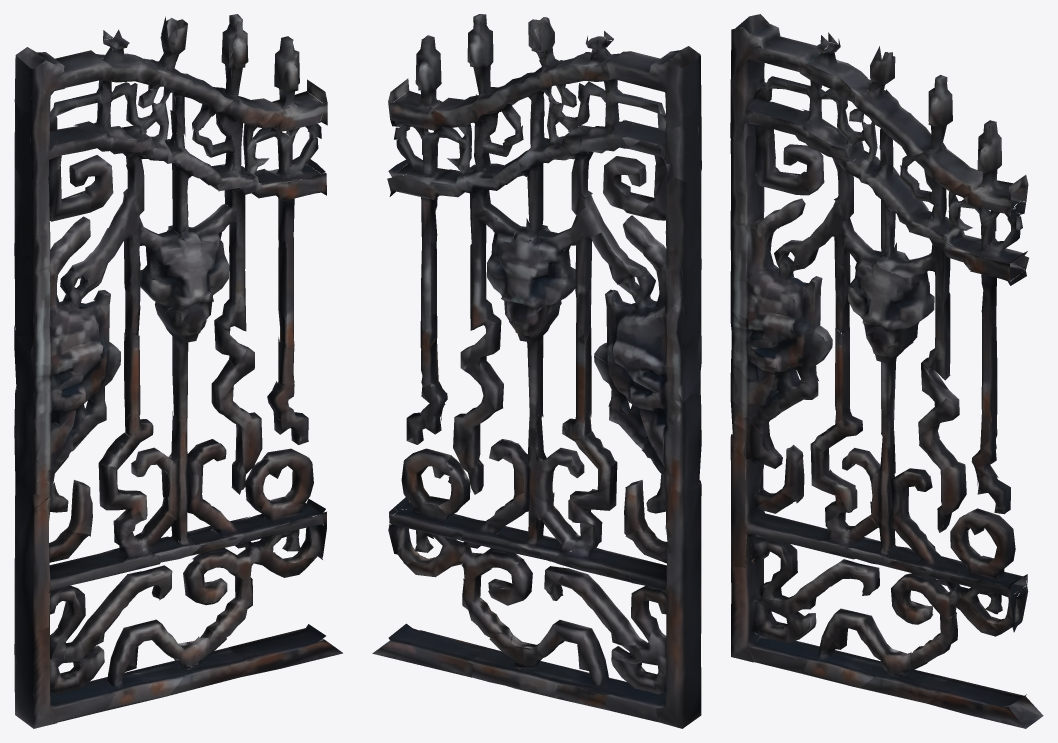
The model's file is gate_door_right.obj.
3 renders of one model, left to right at view 1: azimuth 30°, elevation 25°; view 2: azimuth 150°, elevation 25°; view 3: azimuth 330°, elevation 25°, orthographic. The views are drawn at different scales.
Visible parts, largest first — view 1: gate_door_right; view 2: gate_door_right; view 3: gate_door_right.
Boxes of the visible parts, x1,y1,x2,y2 form: gate_door_right: (14, 14, 342, 728); gate_door_right: (372, 14, 701, 728); gate_door_right: (730, 14, 1043, 728).
Size of the model in its own units: 0.3653 by 0.7504 by 0.0666.
1 material, 1 textured.
